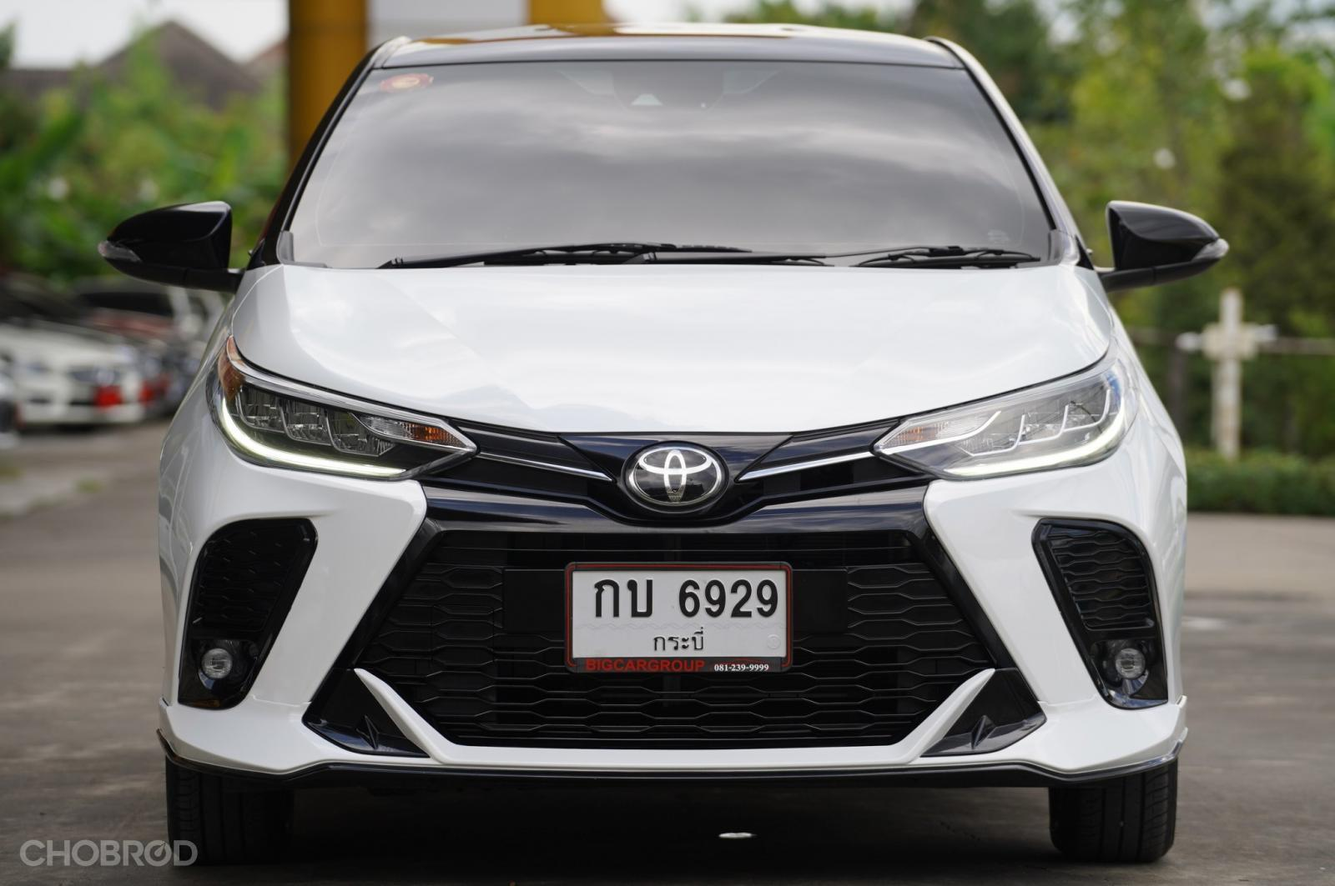license-plate: (562, 548, 795, 680)
